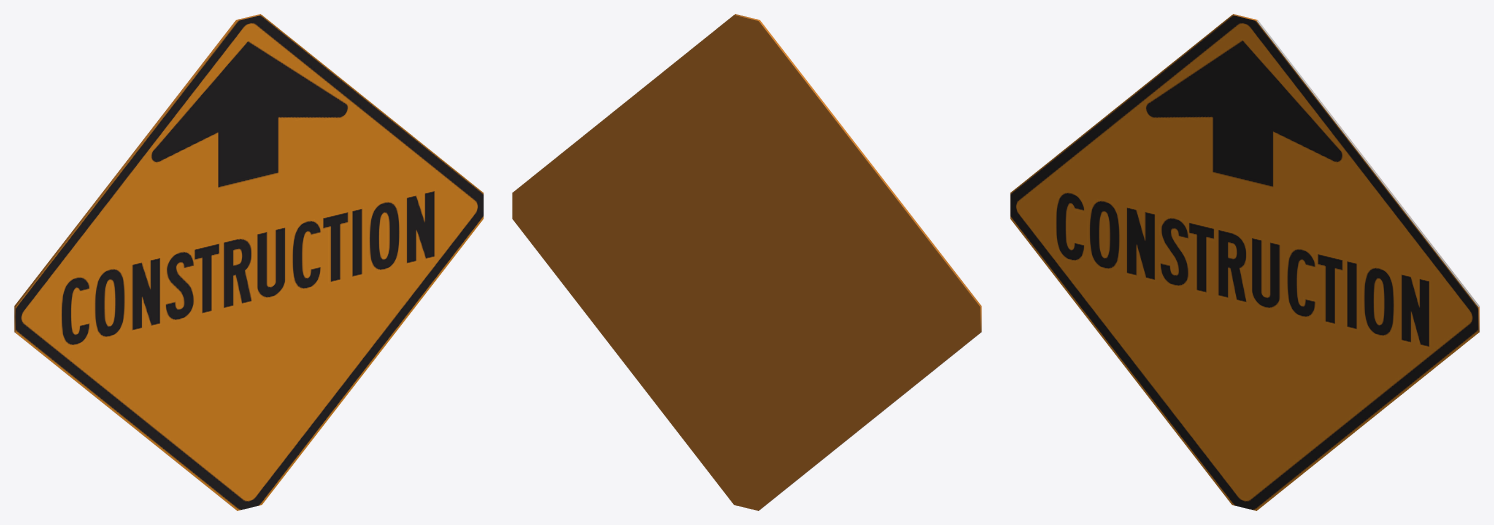
File: SM_sign_03.glb
The picture shows the model from 3 angles, left to right: view 1: azimuth 30°, elevation 25°; view 2: azimuth 150°, elevation 25°; view 3: azimuth 330°, elevation 25°; orthographic projection.
Visible parts, largest first — view 1: SM_sign_03; view 2: SM_sign_03; view 3: SM_sign_03.
Part boxes in pixels (left/top/right/bottom): SM_sign_03: left=14, top=14, right=483, bottom=510; SM_sign_03: left=512, top=14, right=981, bottom=510; SM_sign_03: left=1010, top=14, right=1479, bottom=510.
Bounding box in the file's own units: 1.69 × 1.69 × 0.00838.
1 material, 1 textured.
